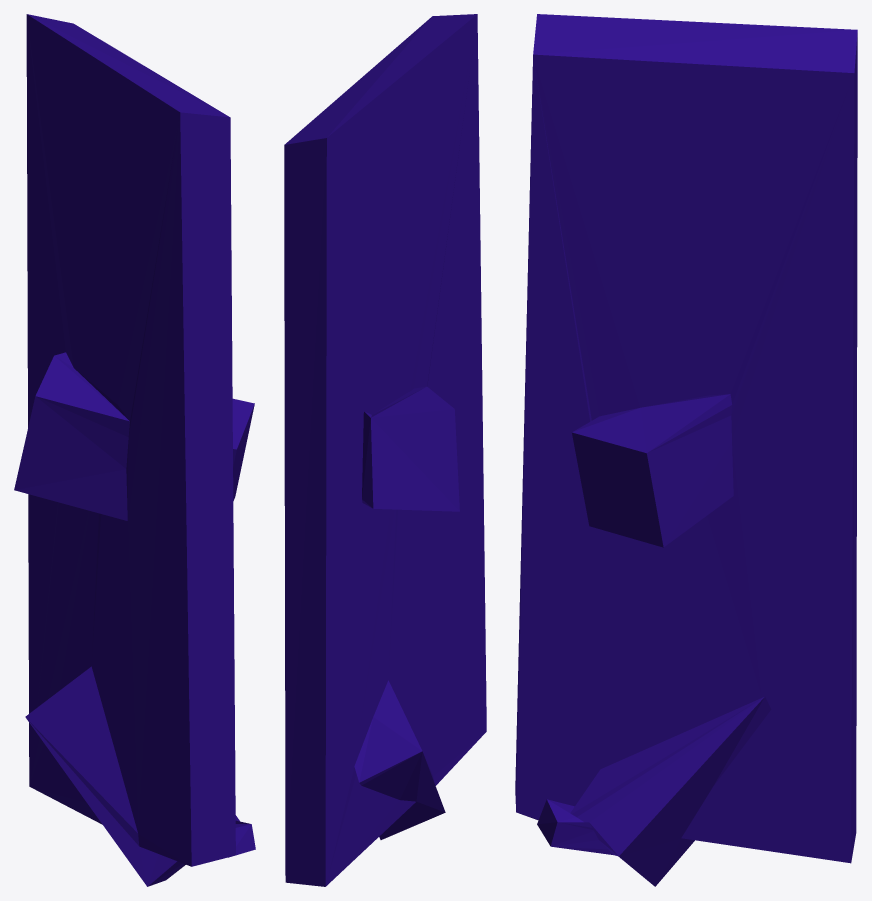
The picture shows the model from 3 angles, left to right: view 1: azimuth 30°, elevation 25°; view 2: azimuth 150°, elevation 25°; view 3: azimuth 270°, elevation 25°; orthographic projection. The views are drawn at different scales.
Parts seen in each view (by area): view 1: 853_Cube.3446; view 2: 853_Cube.3446; view 3: 853_Cube.3446.
Part boxes in pixels (left/top/right/bottom): 853_Cube.3446: left=14, top=14, right=255, bottom=886; 853_Cube.3446: left=284, top=14, right=486, bottom=886; 853_Cube.3446: left=515, top=14, right=857, bottom=886.
Bounding box in the file's own units: 3.3 × 12.82 × 4.68.
